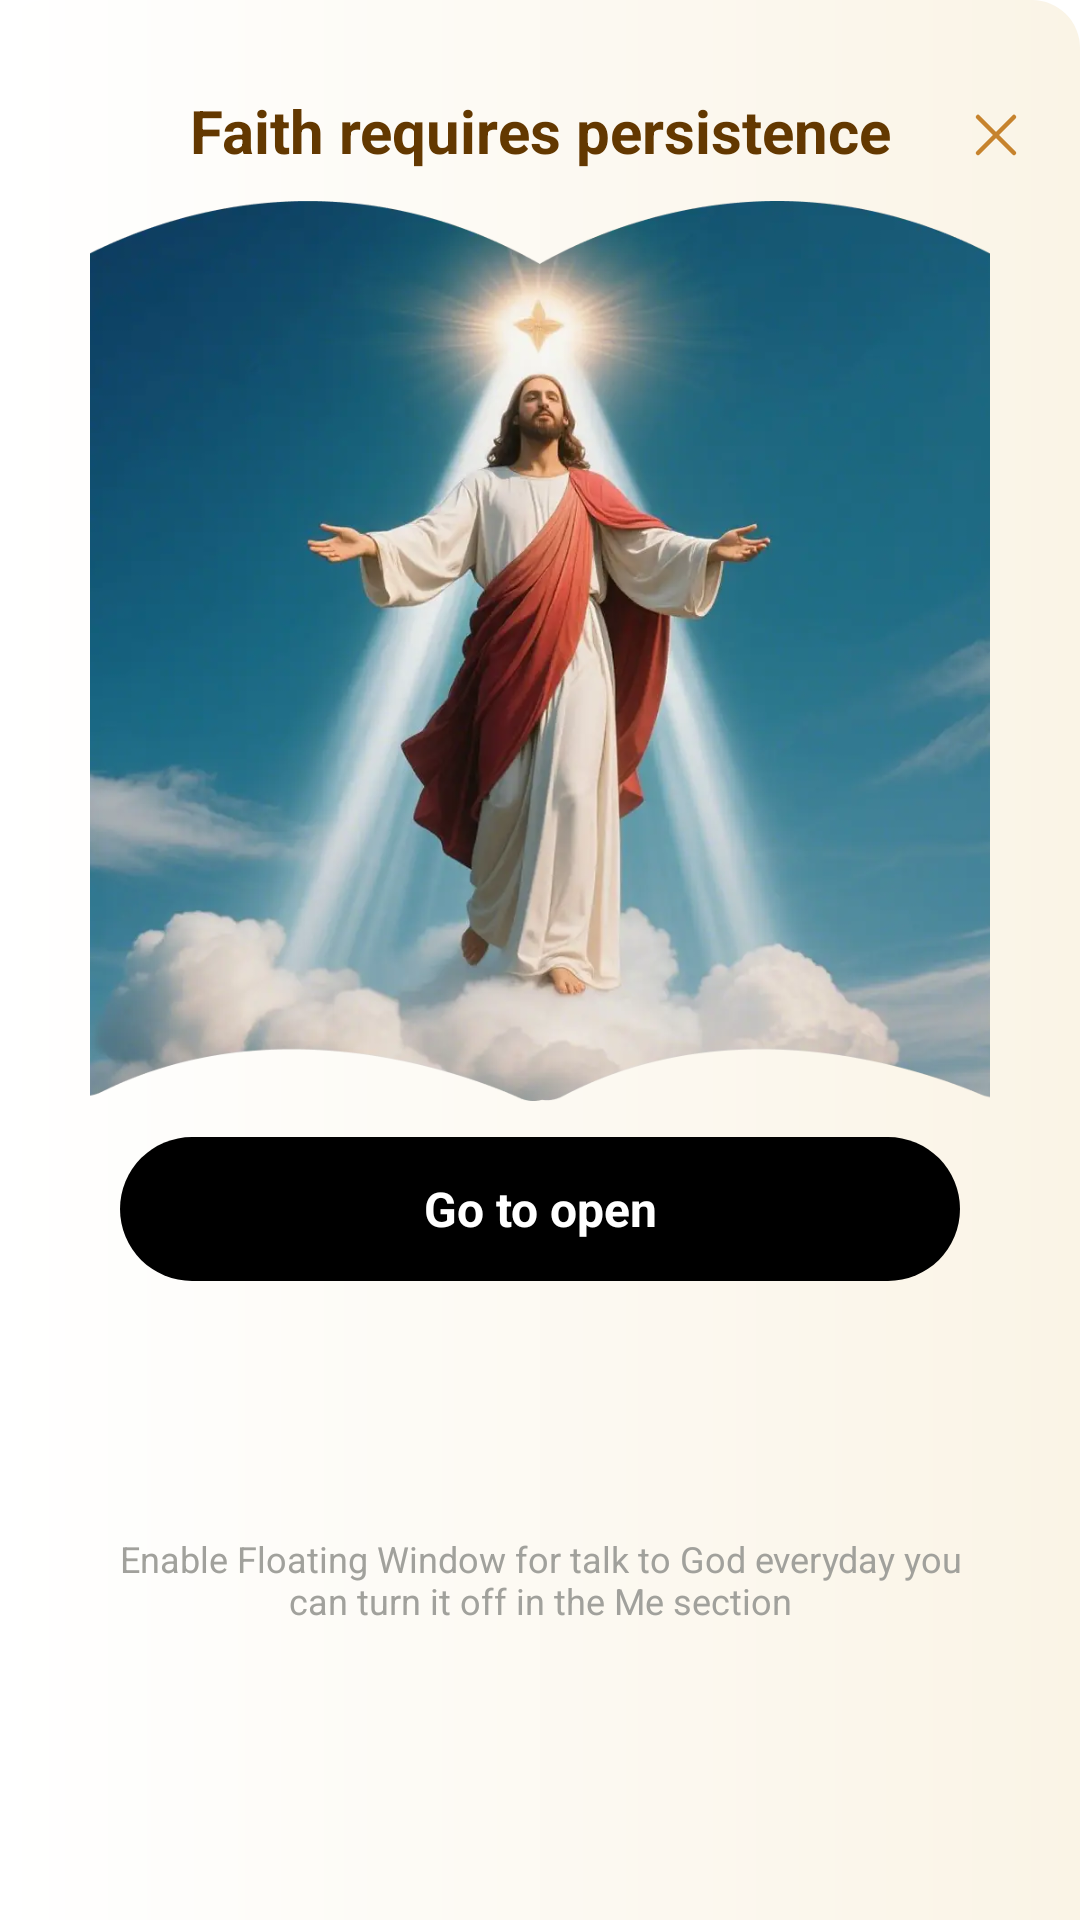

Icons on this 1080 × 1920 Android screen, each with the point to tap as point (x, y):
cancel: point (995, 135)
